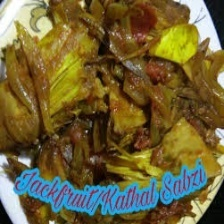sabzi: (0, 1, 224, 157)
